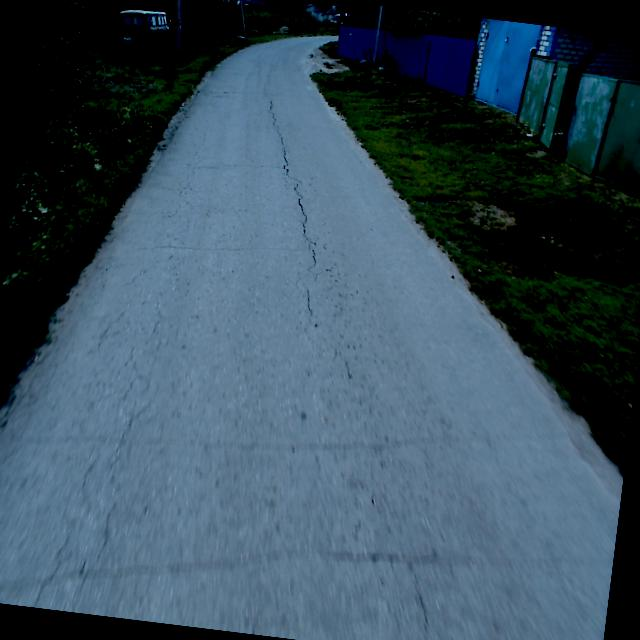road: (0, 35, 620, 640)
